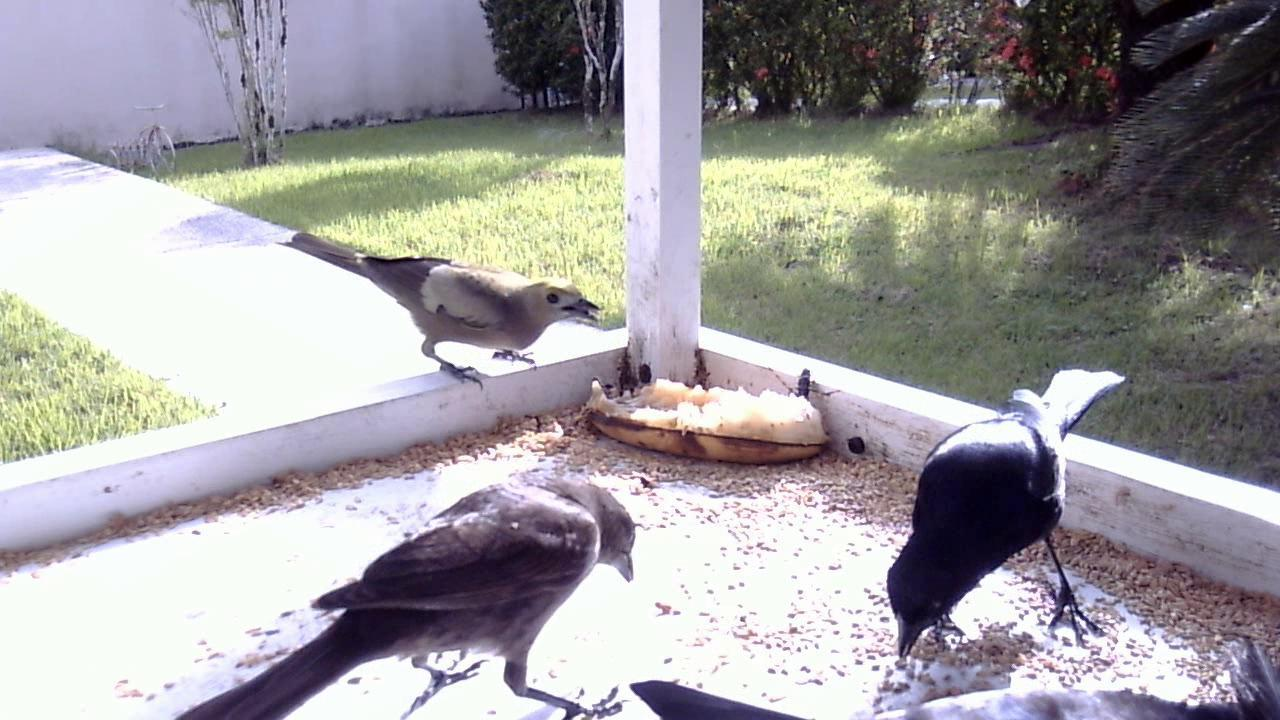chupim: (170, 449, 651, 720), (874, 356, 1141, 671)
sanhaco_do_coqueiro: (274, 220, 603, 406)
